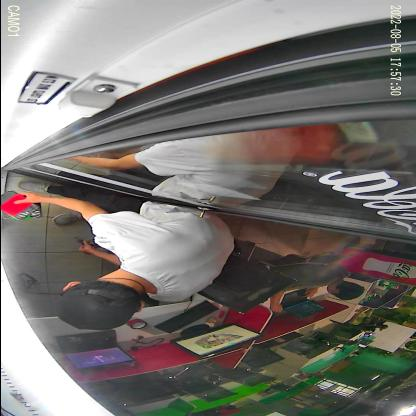green: (1, 203, 41, 219)
red: (0, 190, 40, 222)
